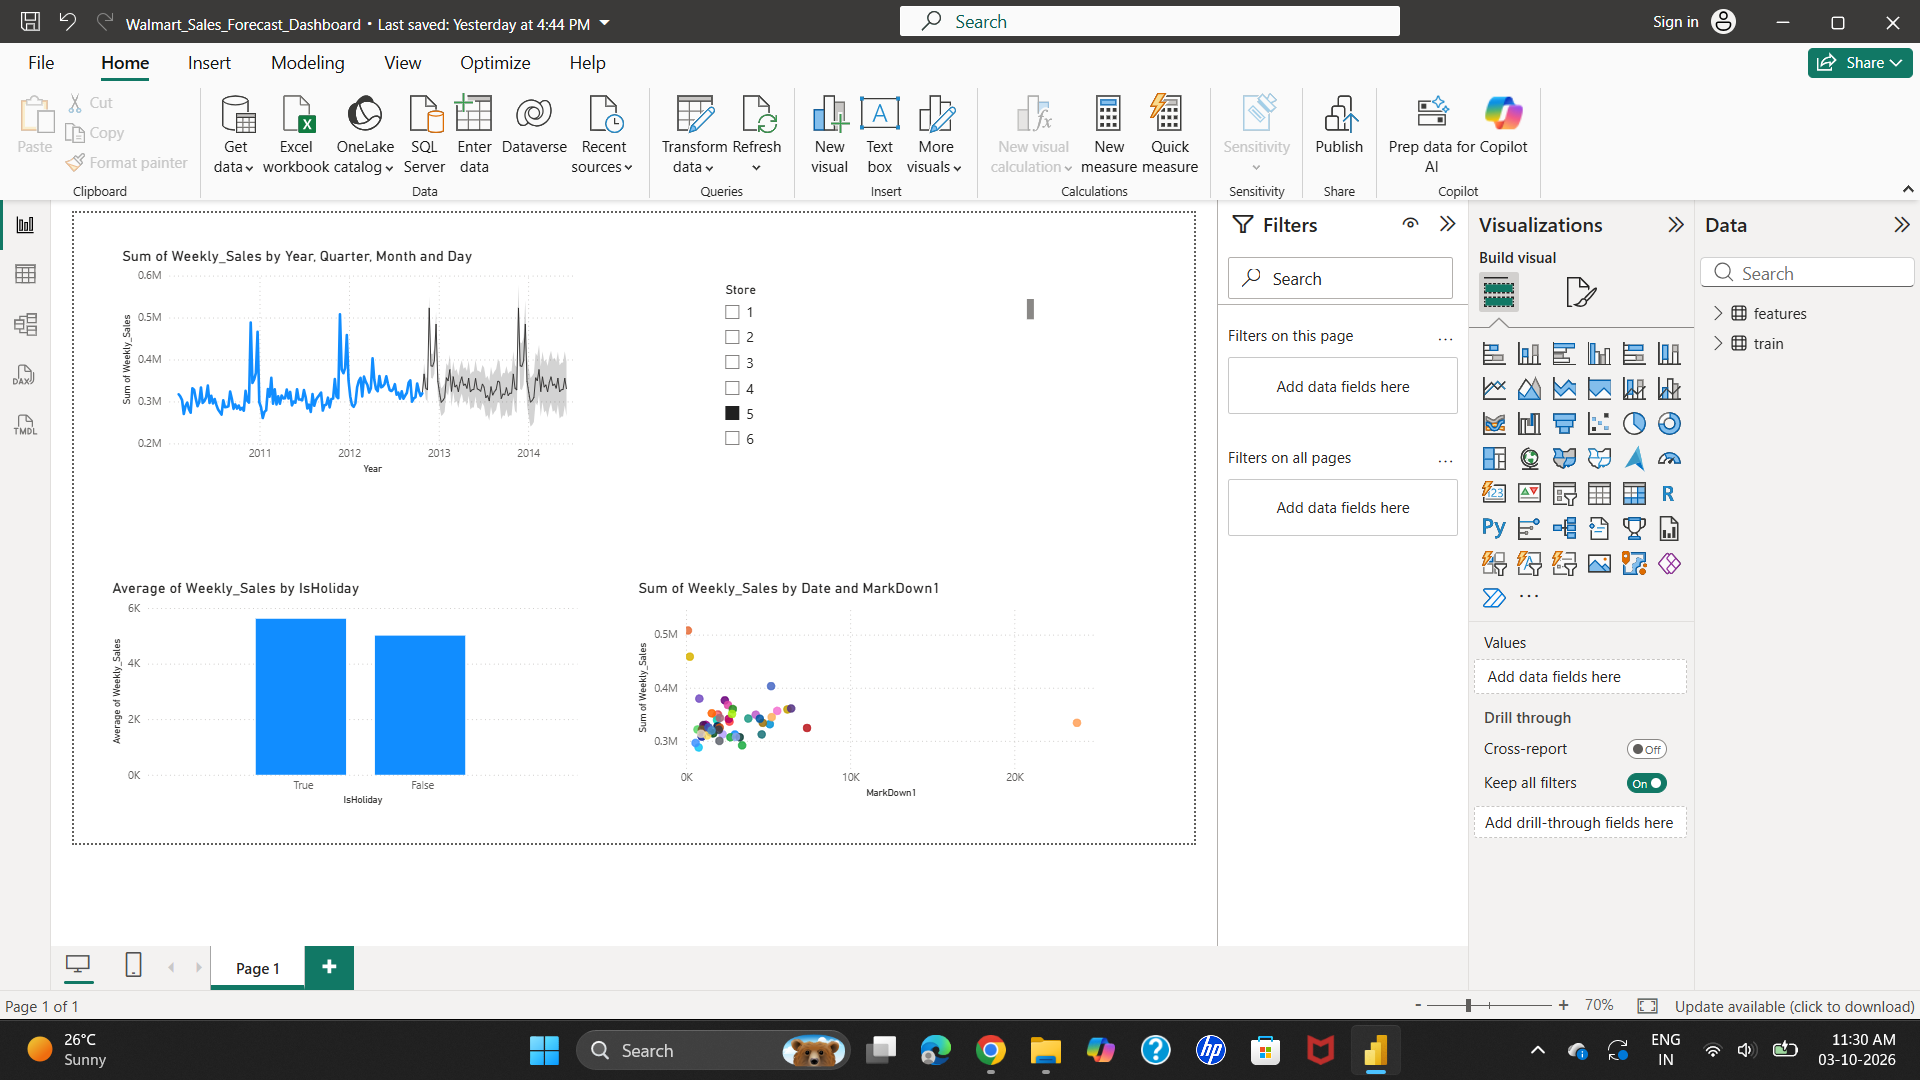

This screenshot's page, from the dashboard's own definition file:
{"tool":"powerbi","page":{"name":"Page 1","canvas":[1280,720],"ordinal":0},"visuals":[{"type":"lineChart","fields":{"Y":["Sum(train.Weekly_Sales)"],"Category":["train.Date.Variation.Date Hierarchy.Year","train.Date.Variation.Date Hierarchy.Quarter","train.Date.Variation.Date Hierarchy.Month","train.Date.Variation.Date Hierarchy.Day"]},"box":[49.4,38.4,531,264.8],"z":0},{"type":"slicer","fields":{"Values":["train.Store"]},"box":[731.4,74.1,370.5,203.1],"z":1},{"type":"clusteredColumnChart","fields":{"Category":["train.IsHoliday"],"Y":["Avg(train.Weekly_Sales)"]},"box":[38.4,418.5,542,263.5],"z":2},{"type":"scatterChart","fields":{"Y":["Sum(train.Weekly_Sales)"],"X":["train.MarkDown1"],"Series":["train.Date"]},"box":[640,418.8,543.8,255],"z":3}]}

Visuals, with their boxes on the page's 1280x720 design canvas (x1, y1, x2, y2). These are canvas units, not pixel positions in the 1920x1080 screenshot, which may show the page scaled, cropped or inside an application window:
lineChart - Sum(train.Weekly_Sales) x train.Date.Variation.Date Hierarchy.Year: <box>49,38,580,303</box>
slicer - train.Store: <box>731,74,1102,277</box>
clusteredColumnChart - train.IsHoliday x Avg(train.Weekly_Sales): <box>38,418,580,682</box>
scatterChart - Sum(train.Weekly_Sales) x train.MarkDown1: <box>640,419,1184,674</box>
